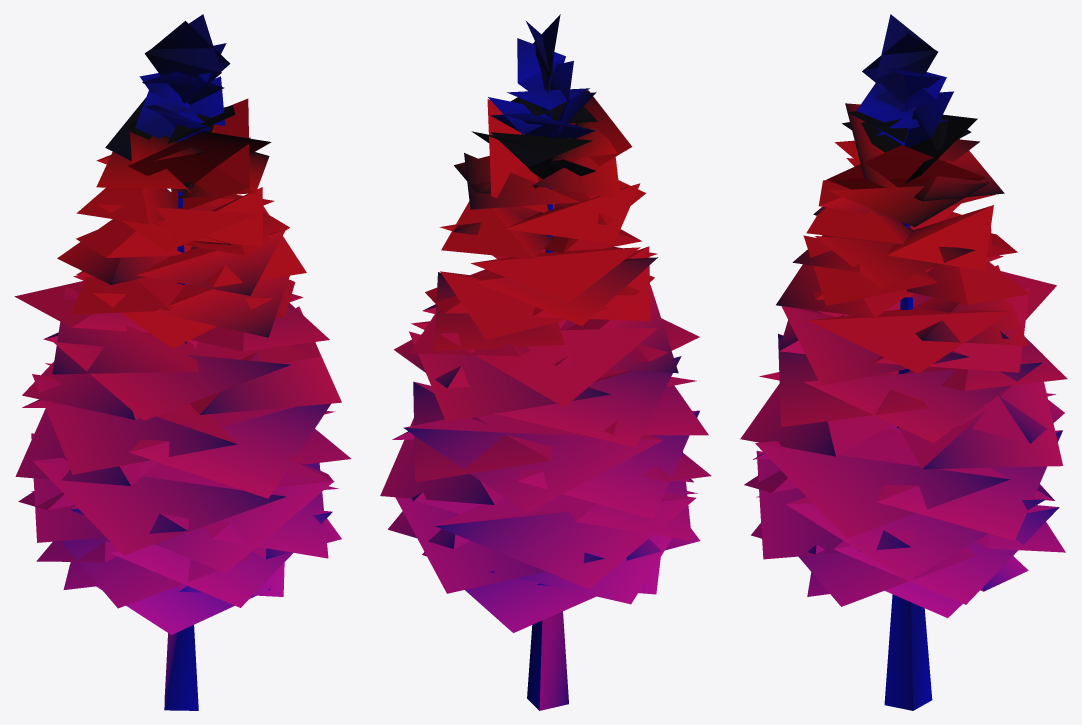
The picture shows the model from 3 angles, left to right: view 1: azimuth 30°, elevation 25°; view 2: azimuth 150°, elevation 25°; view 3: azimuth 270°, elevation 25°; orthographic projection.
Visible parts, largest first — view 1: 10; view 2: 10; view 3: 10.
Part boxes in pixels (bbox=[...]): 10: bbox=[14, 14, 351, 710]; 10: bbox=[380, 14, 711, 710]; 10: bbox=[740, 14, 1067, 710].
Size of the model in its own units: 6.09 by 13.74 by 5.95.
